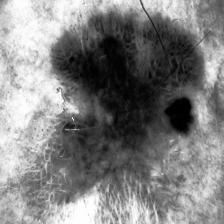Benign Marking or Mole: (46, 10, 200, 186)
